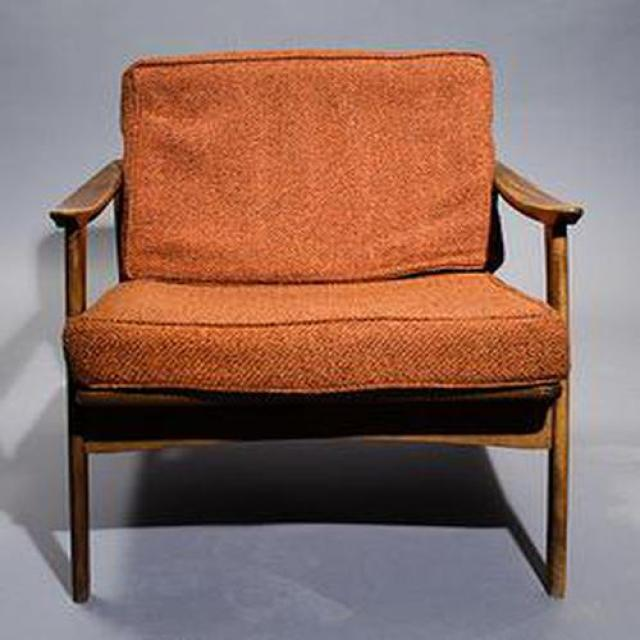chair: (50, 50, 586, 607)
